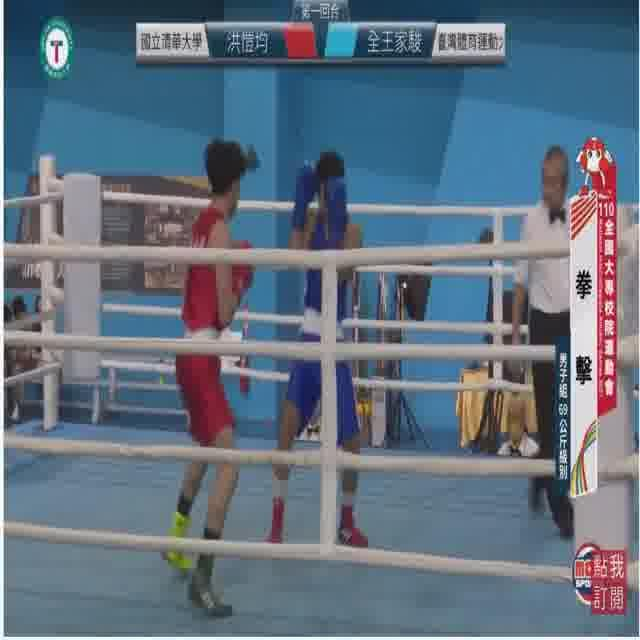blue-player: (263, 144, 369, 555)
red-player: (162, 140, 257, 626)
referee: (510, 140, 592, 550)
